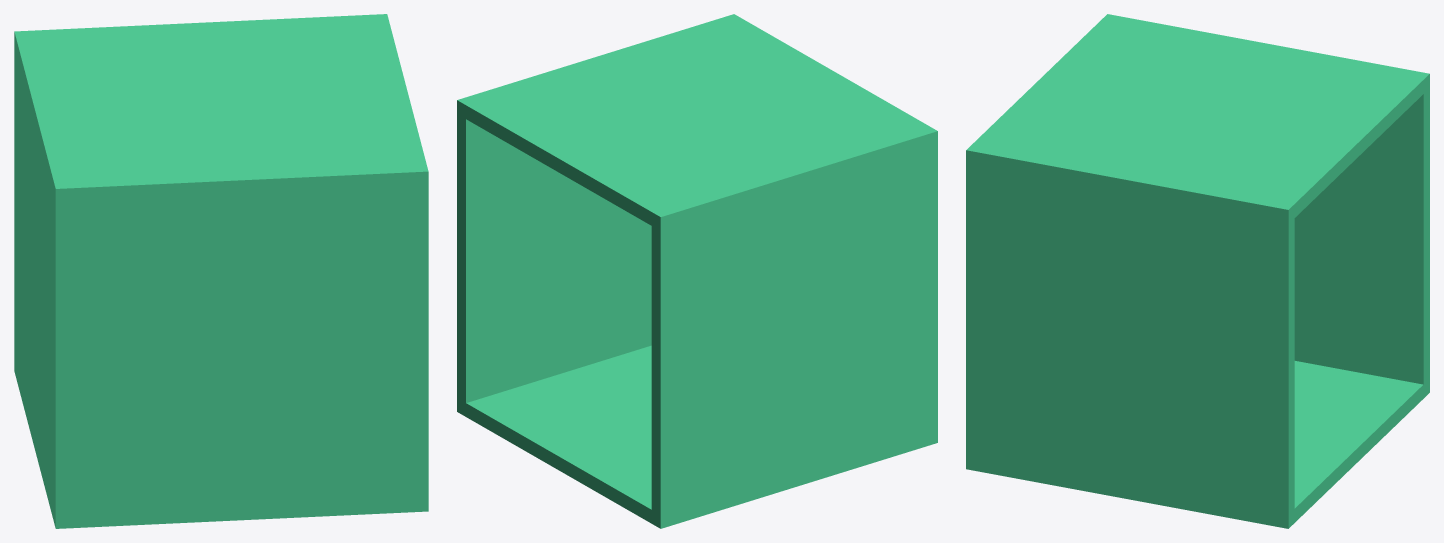
File: 011_Candy_TreasureBox.fbx
The picture shows the model from 3 angles, left to right: view 1: azimuth 30°, elevation 25°; view 2: azimuth 150°, elevation 25°; view 3: azimuth 270°, elevation 25°; orthographic projection. The views are drawn at different scales.
Parts seen in each view (by area): view 1: Cube.015; view 2: Cube.015; view 3: Cube.015.
Part boxes in pixels (x1,y1,x2,y2): Cube.015: [14, 14, 428, 528]; Cube.015: [457, 14, 937, 528]; Cube.015: [966, 14, 1429, 528].
Bounding box in the file's own units: 152 × 115 × 152.
